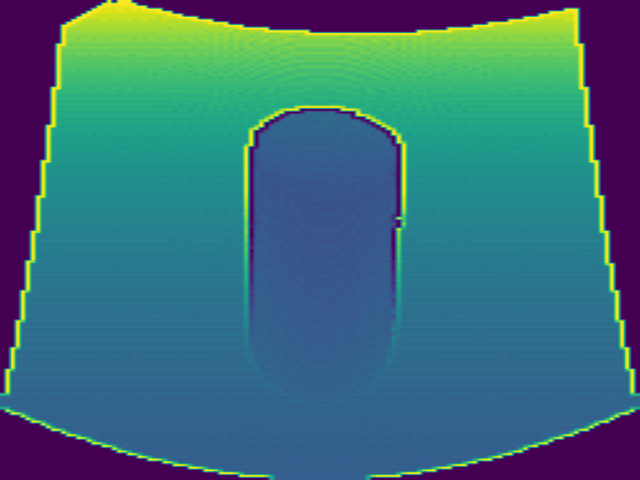cylinder: (240, 103, 406, 406)
